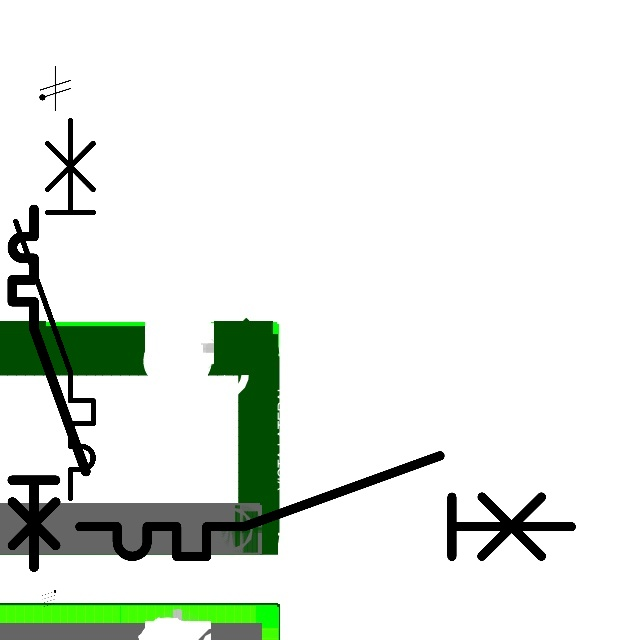interruptor_termomagnetico: (67, 443, 584, 569), (6, 110, 103, 507), (3, 200, 95, 576)
